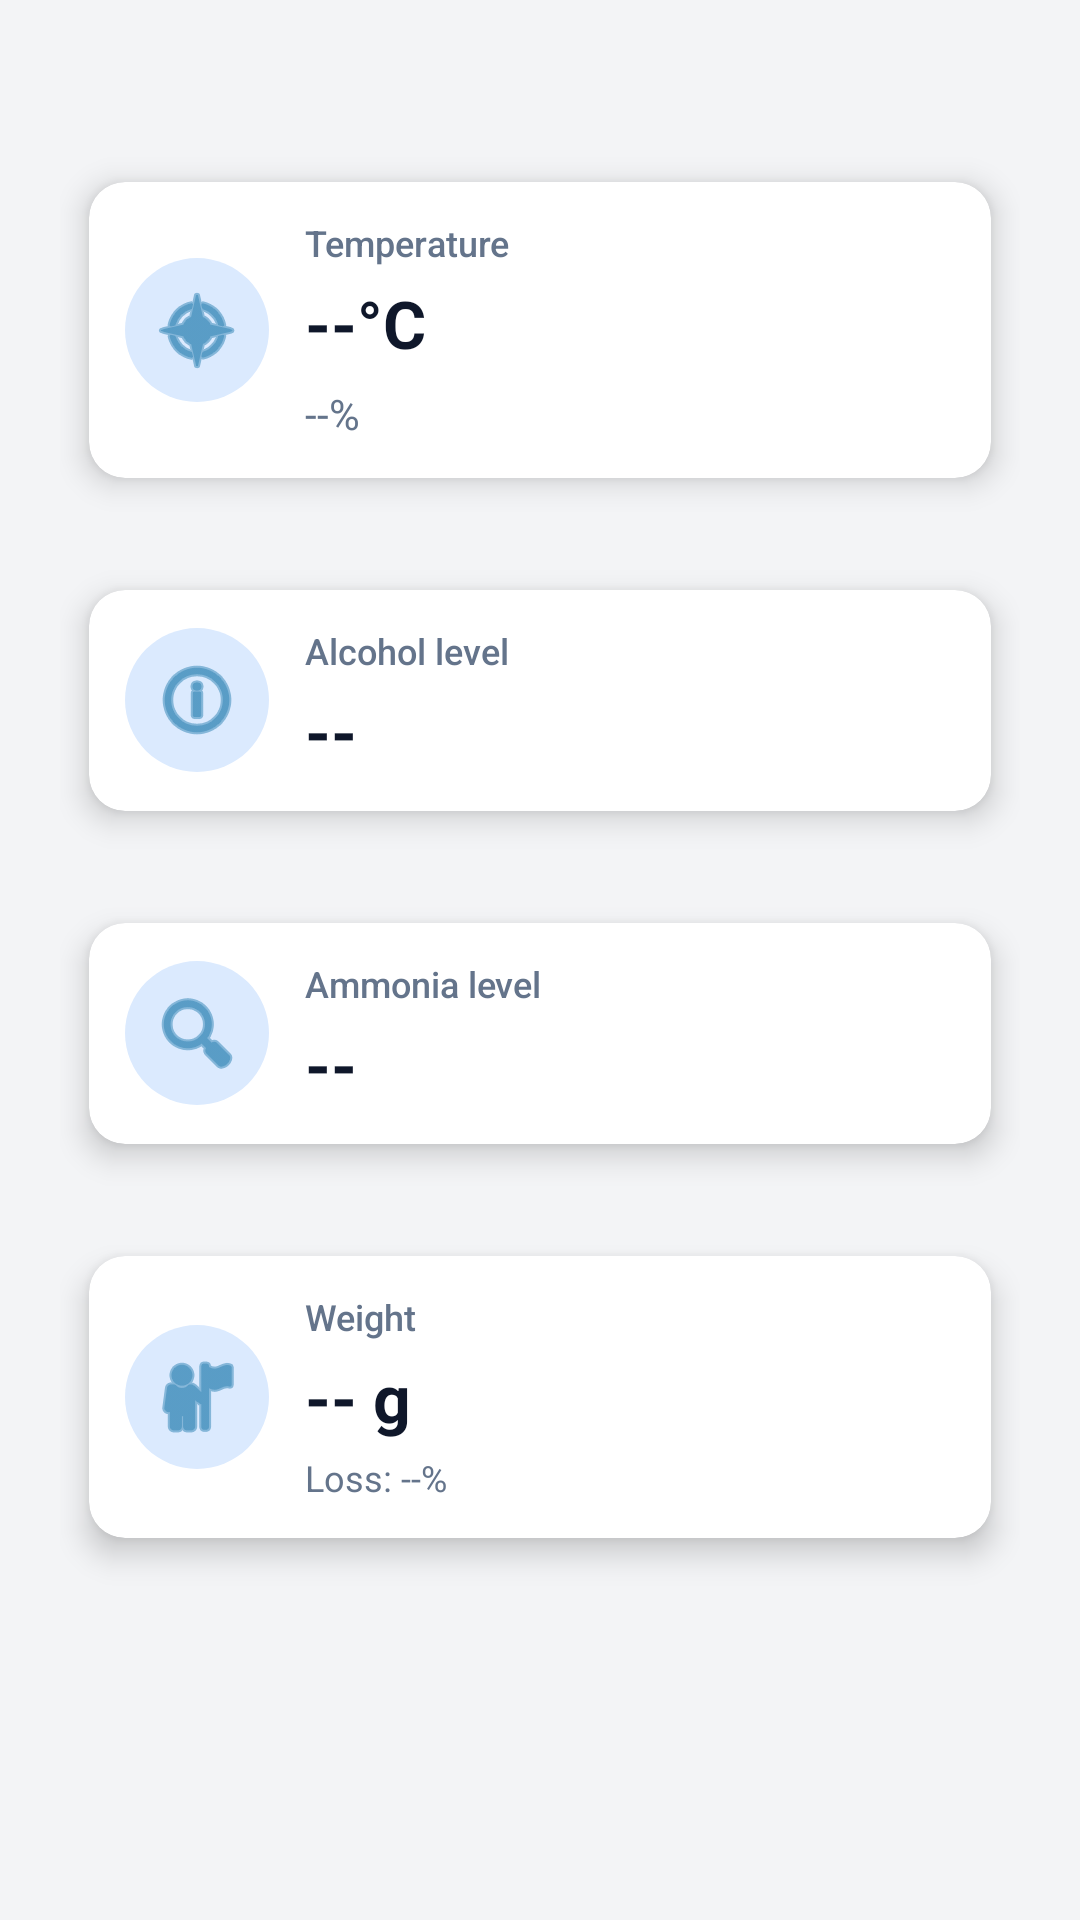

Point at icon controls on the screen. Image size 1080 x 1920, points as (x=x, y=y).
compass: (x=197, y=330)
info details: (x=197, y=700)
search: (x=197, y=1033)
